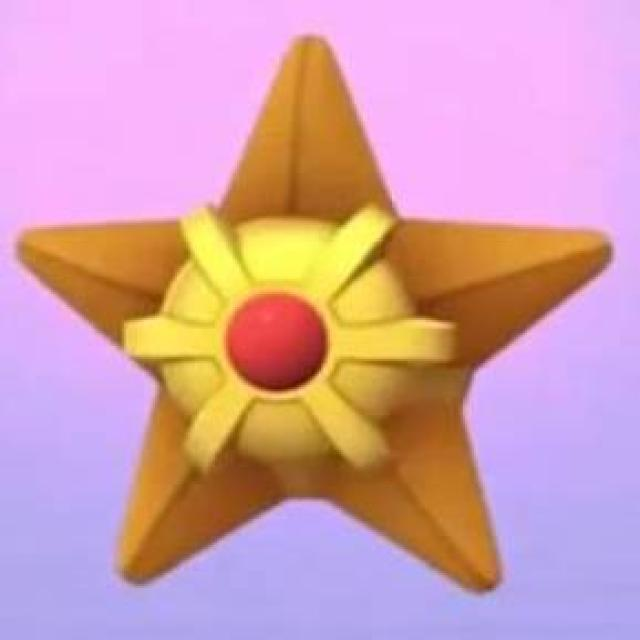Staryu: (24, 33, 613, 590)
